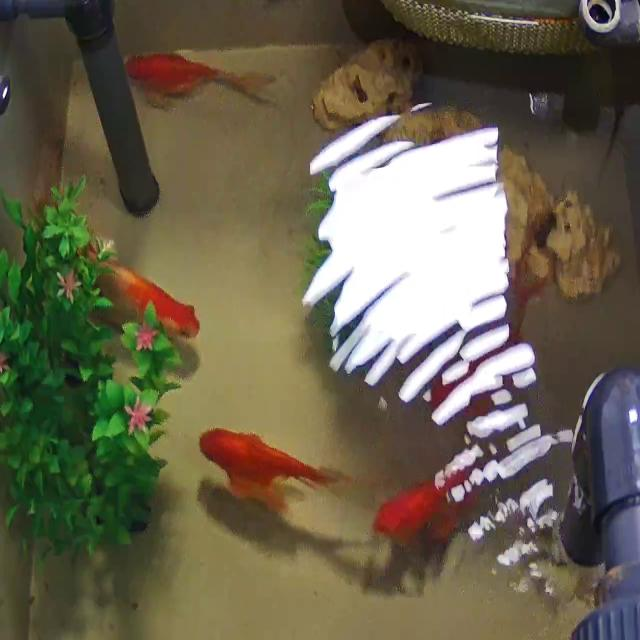fish: (176, 424, 349, 520), (66, 239, 203, 345), (365, 472, 493, 544), (128, 52, 271, 116)
